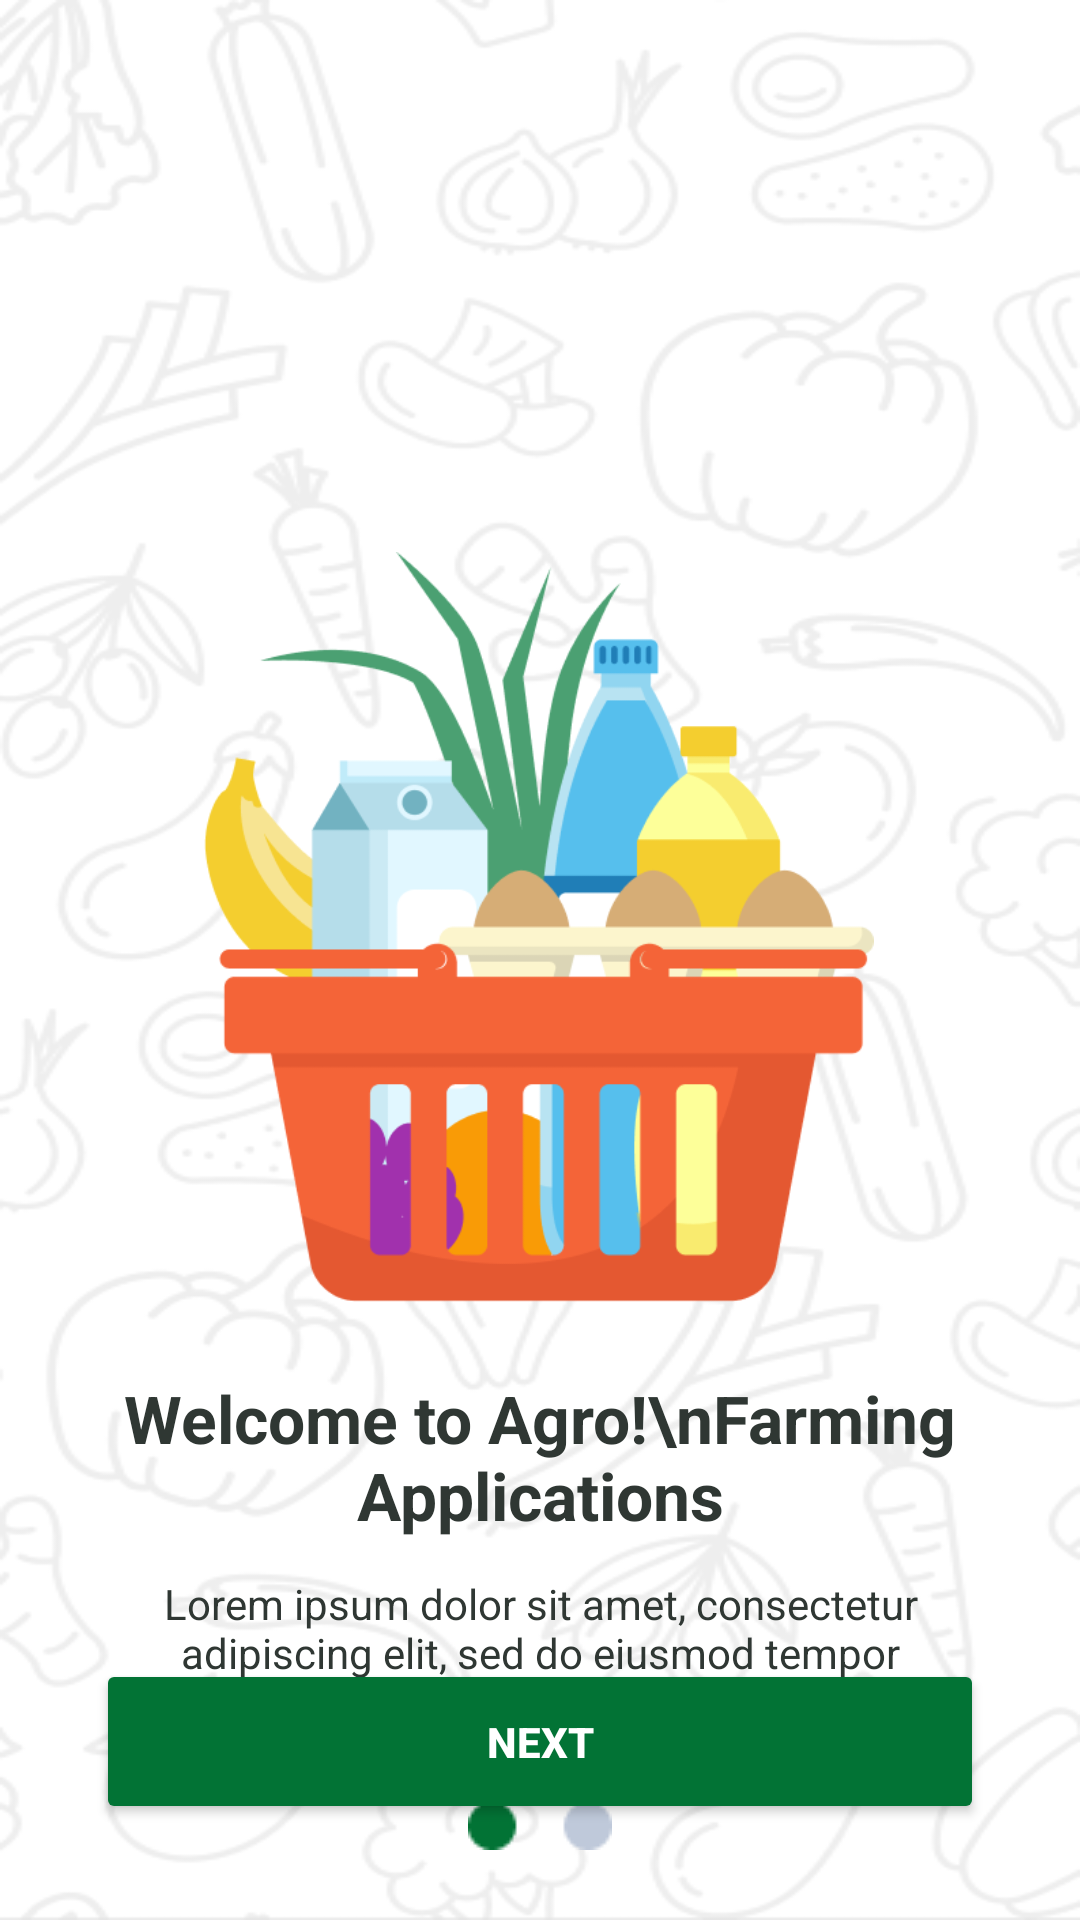

Where to tap for icons on this 1080 x 1920 app screen, as point (x, y):
walkthrough dot: point (540, 1826)
